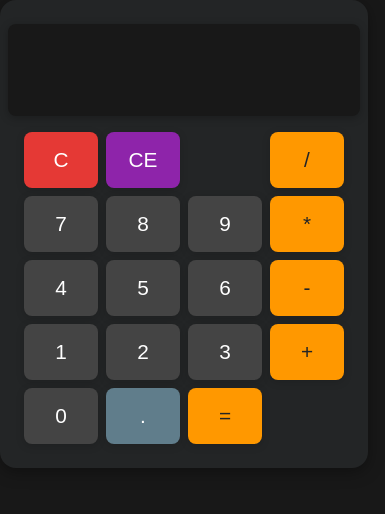
Scenario: Calculator Component › multiplies numbers correctly
This screenshot has width=385, height=514.
Click the button "3" at (225,352), box left=188, top=324, right=262, bottom=380
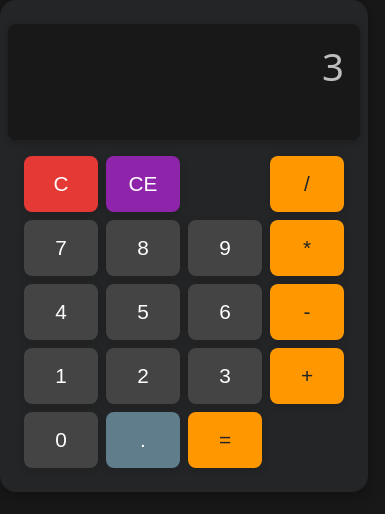
Click the button "*" at (307,248), box left=270, top=220, right=344, bottom=276
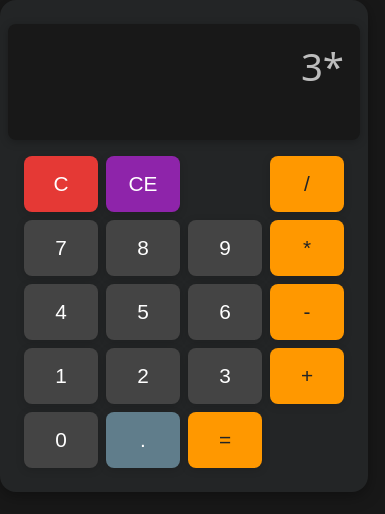
Click the button "4" at (61,312), box left=24, top=284, right=98, bottom=340
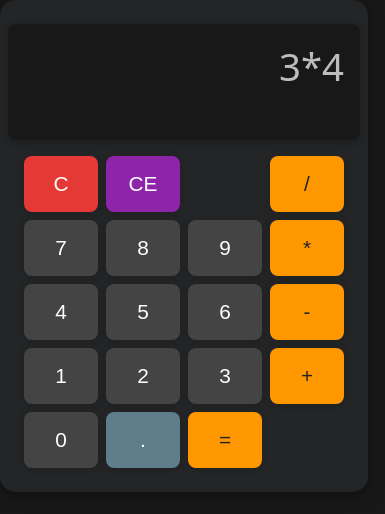
Click the button "=" at (225,440), box left=188, top=412, right=262, bottom=468
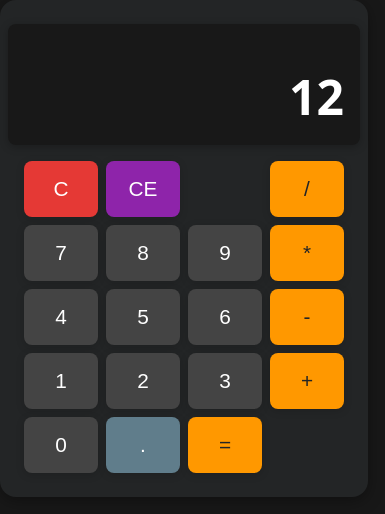
expect the text with test id "result" reads "12": met, box left=289, top=64, right=344, bottom=129
